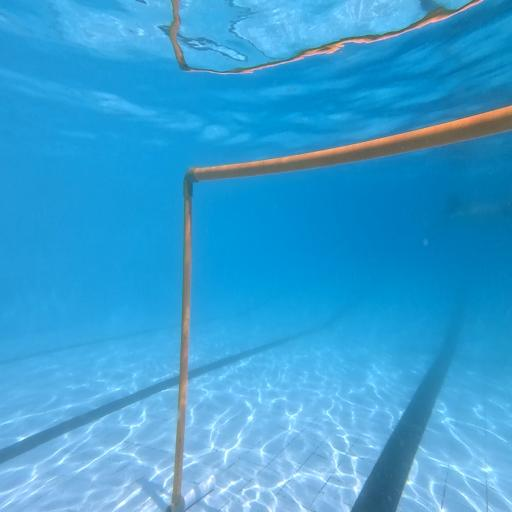gate: (166, 105, 512, 512)
